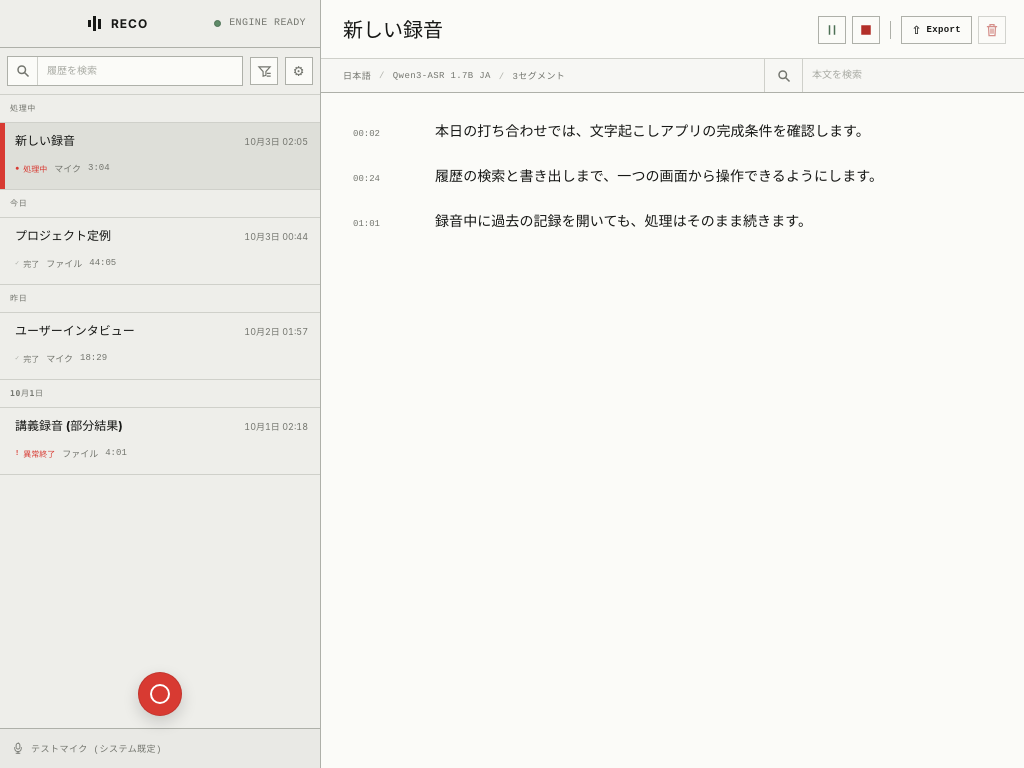
Test: RecoGUI › keeps file selection available while a session is active
expect the heading "新しい録音" is shown: met, box x1=343 y1=18 x2=443 y2=42
Click the button named "新規文字起こし".
click(160, 694)  # box x1=138 y1=672 x2=182 y2=716
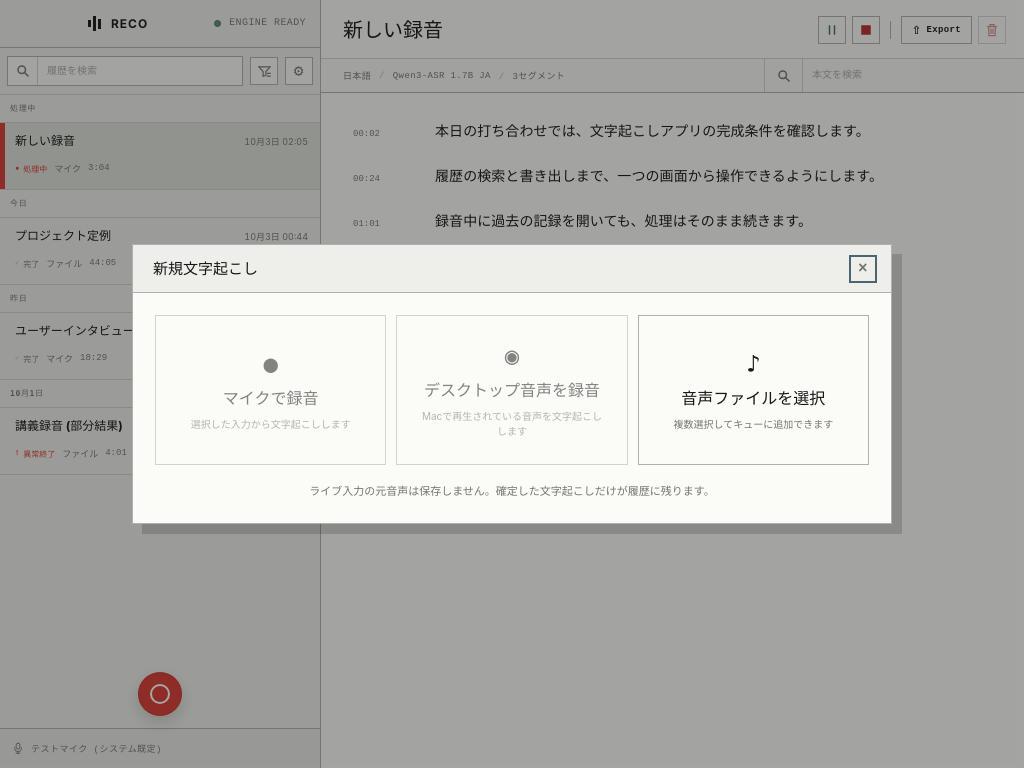
expect the button "● マイクで録音 選択した入力から文字起こしします" is disabled: met, box x1=155 y1=315 x2=386 y2=465
expect the button "♪ 音声ファイルを選択 複数選択してキューに追加できます" is enabled: met, box x1=638 y1=315 x2=869 y2=465
